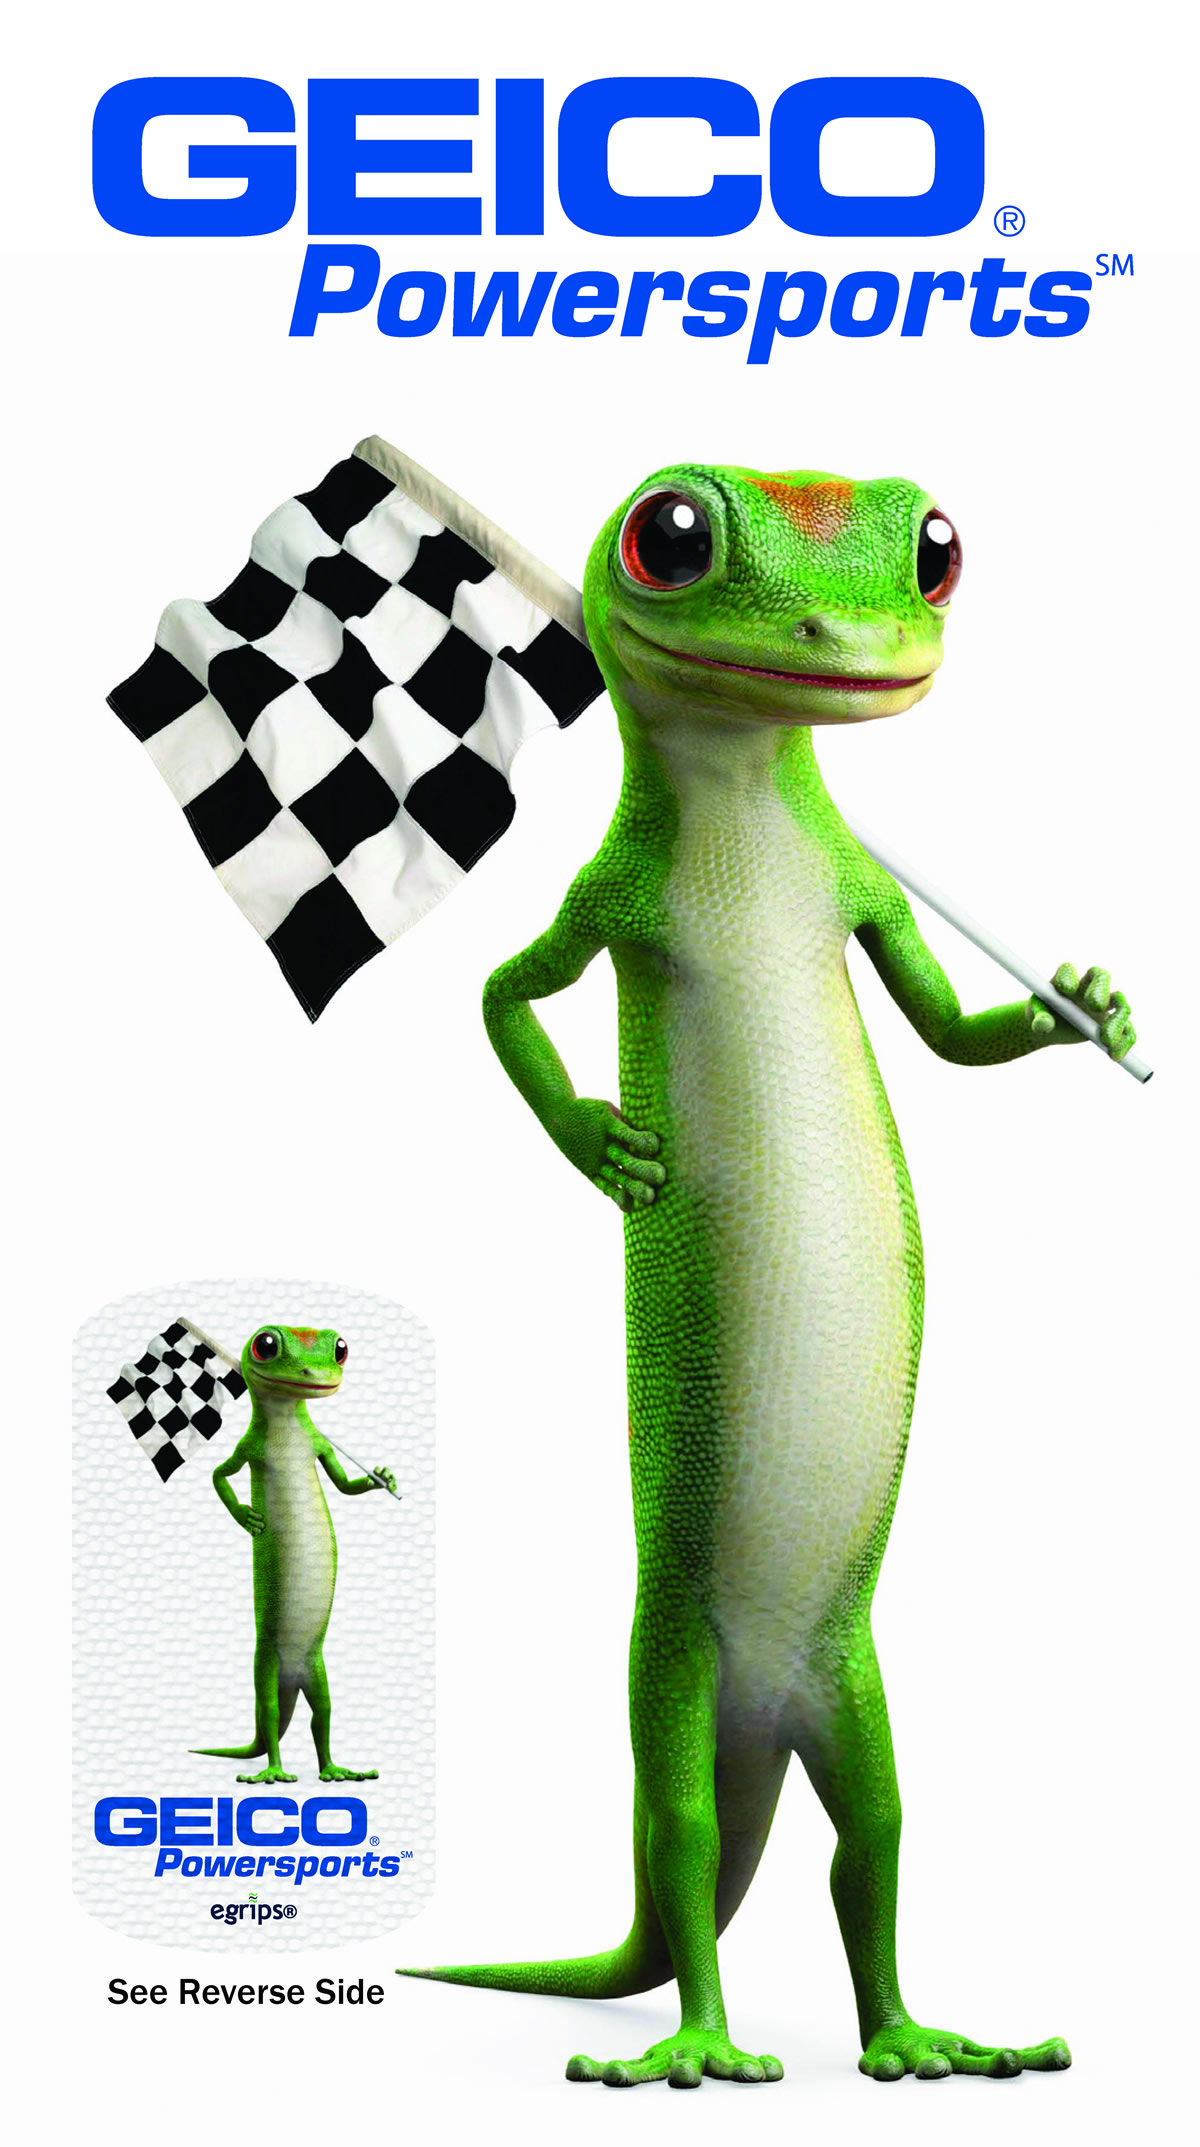geico: (88, 62, 1070, 255), (88, 1789, 414, 1892)
